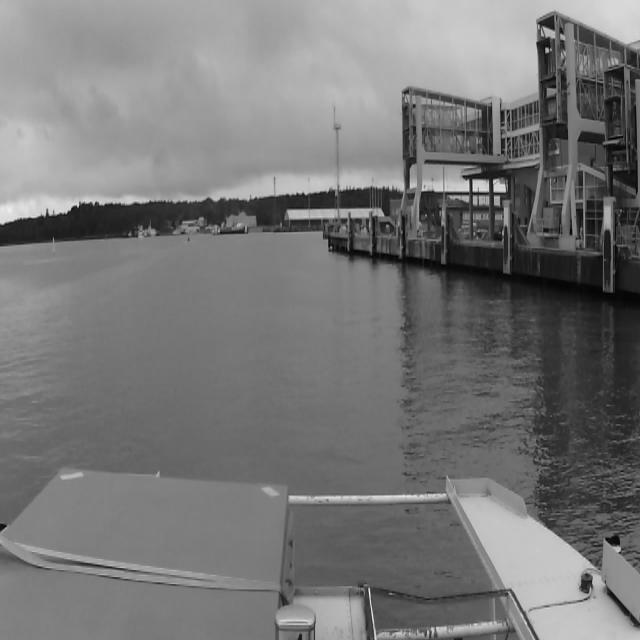buoy: (49, 235, 57, 256)
ship: (186, 234, 194, 244), (185, 235, 189, 242)
